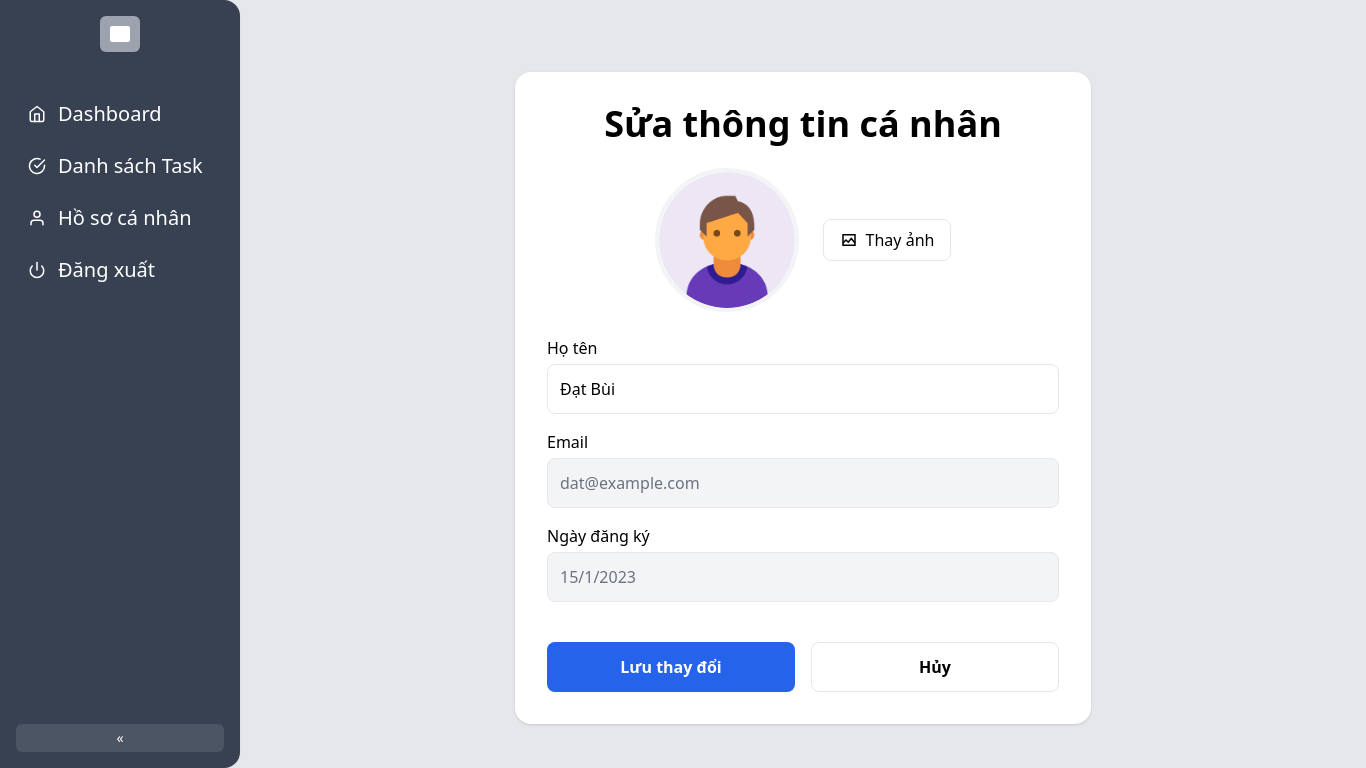
Test: EditProfilePage › Lưu thay đổi thành công: gọi updateUser và hiển thị thông báo thành công
Expected: the heading "Sửa thông tin cá nhân" is shown, top-left (604, 99), bottom-right (1002, 148)
Replace the text in the field labelled "Họ tên" with "Tên mới" at {"x": 803, "y": 389}, box top-left (547, 364), bottom-right (1059, 414)
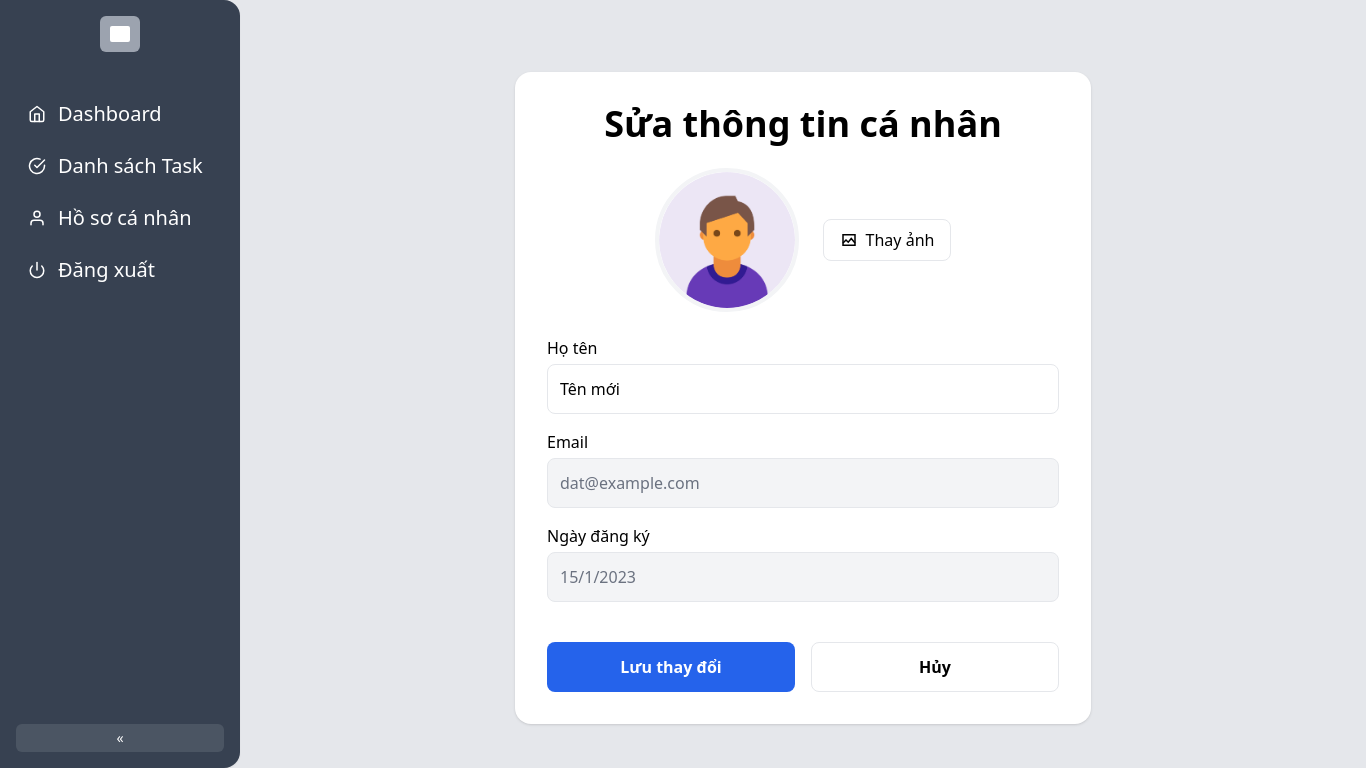
# Click Lưu
Click the button "Lưu thay đổi" at {"x": 671, "y": 667}, box top-left (547, 642), bottom-right (795, 692)
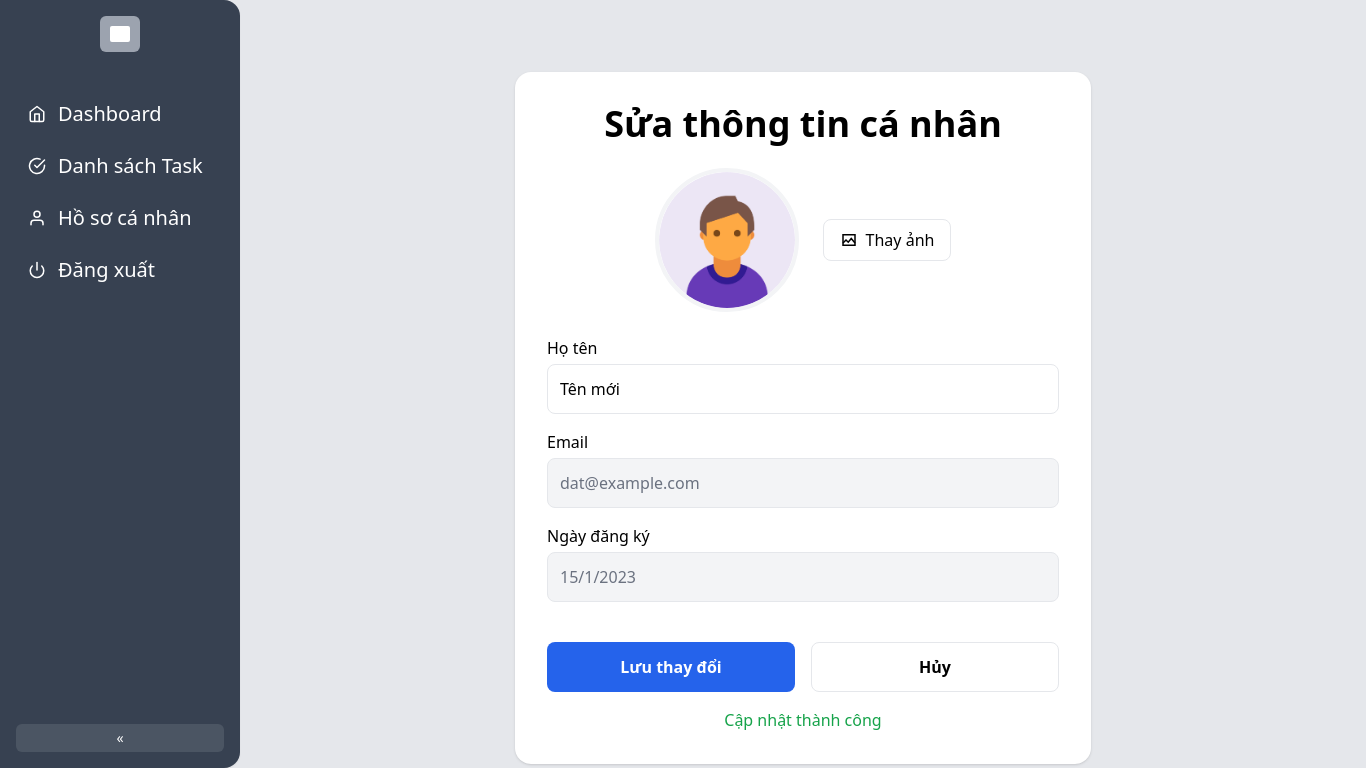
Now the text "Cập nhật thành công" is shown, box top-left (724, 709), bottom-right (882, 731)
